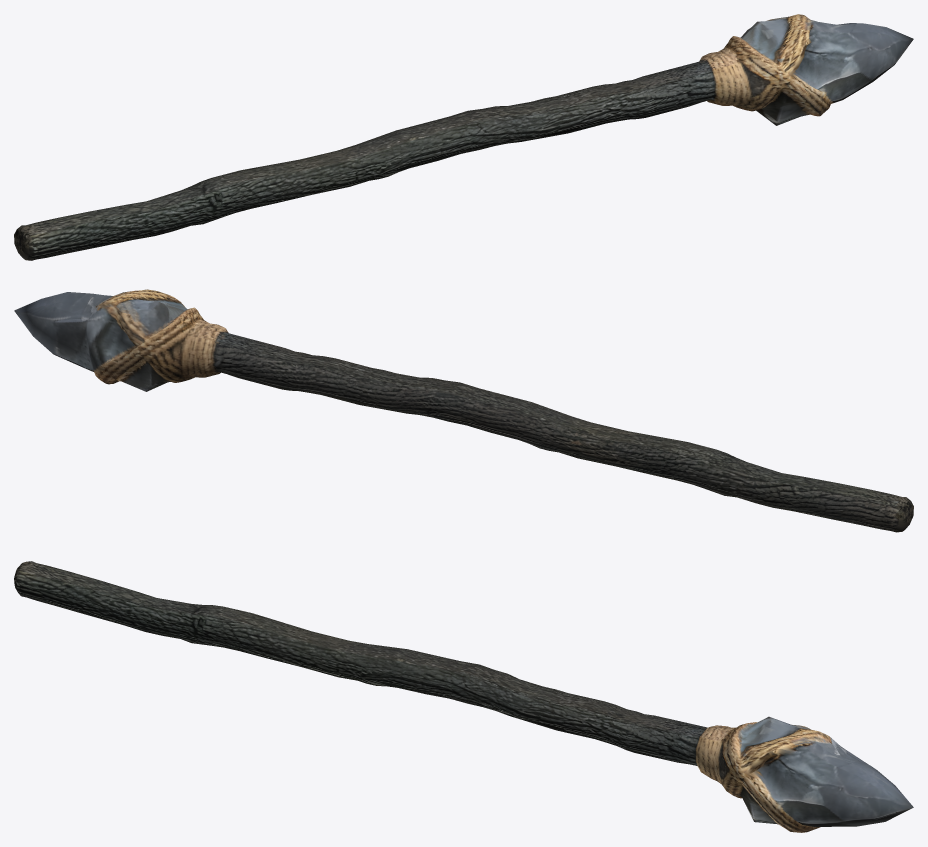
The model's file is stoneSpear.fbx.
The picture shows the model from 3 angles, top to bottom: view 1: azimuth 30°, elevation 25°; view 2: azimuth 150°, elevation 25°; view 3: azimuth 330°, elevation 25°; orthographic projection.
Parts seen in each view (by area): view 1: mesh_rep_0_ori_repair; view 2: mesh_rep_0_ori_repair; view 3: mesh_rep_0_ori_repair.
Boxes of the visible parts, x1,y1,x2,y2 form: mesh_rep_0_ori_repair: (14,14,913,260); mesh_rep_0_ori_repair: (14,289,913,532); mesh_rep_0_ori_repair: (14,561,913,832).
Bounding box in the file's own units: 119 × 12.13 × 10.62.
